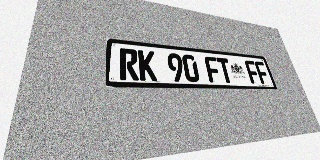0: (181, 54, 200, 82)
9: (167, 53, 185, 82)
F: (204, 56, 222, 83), (244, 60, 261, 84), (254, 61, 271, 84)
K: (138, 50, 157, 81)
R: (119, 48, 139, 80)
T: (216, 57, 234, 83)
